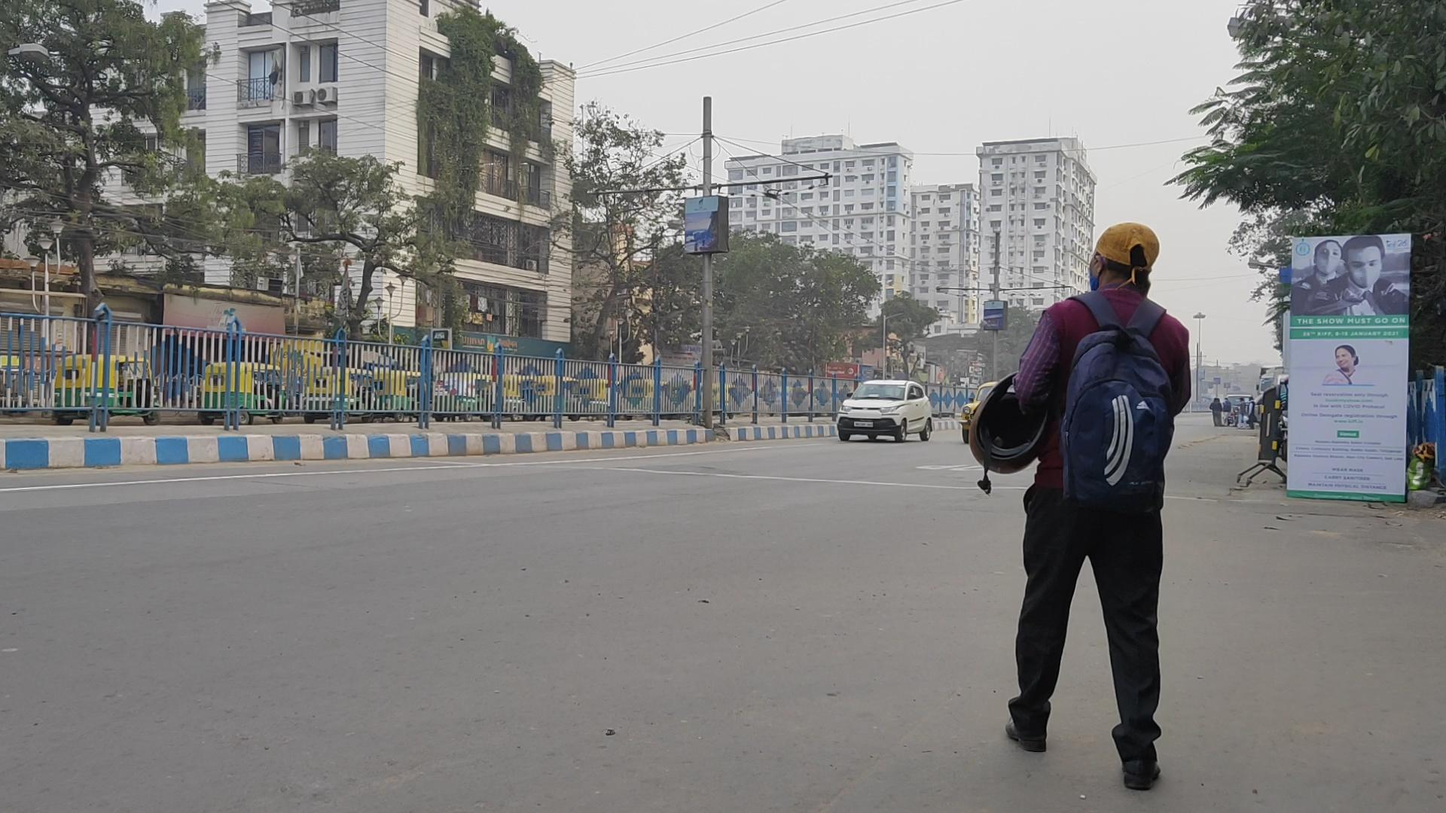car: (834, 377, 935, 443)
